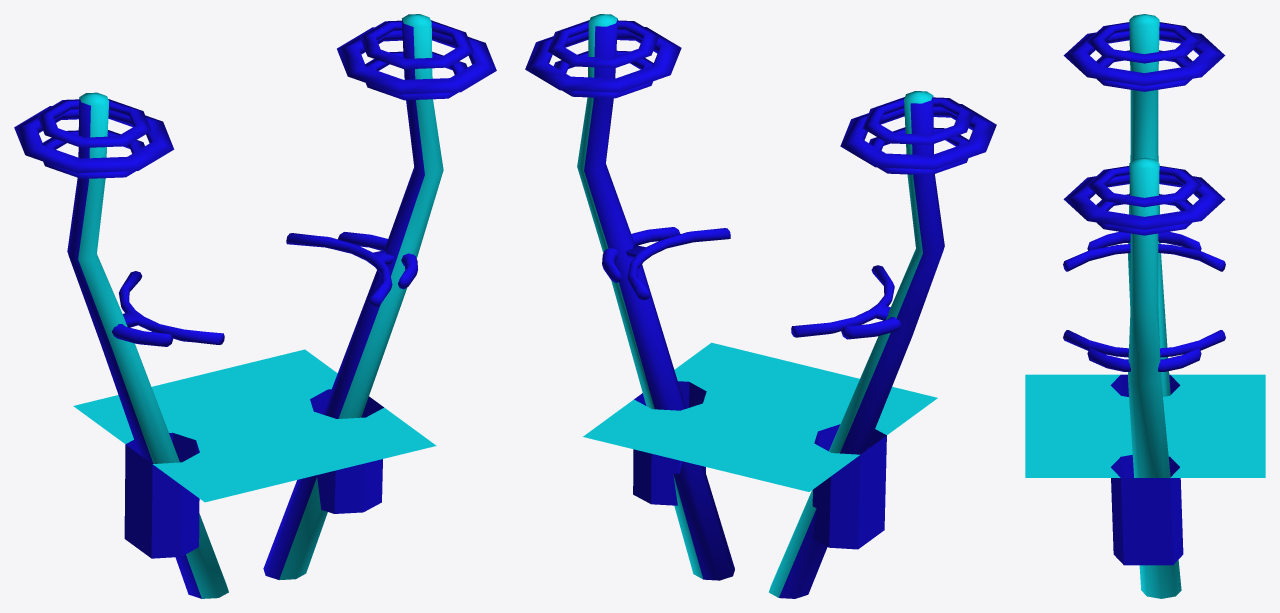
Rendered from Electric_1T_Floor.fbx.
3 renders of one model, left to right at view 1: azimuth 30°, elevation 25°; view 2: azimuth 150°, elevation 25°; view 3: azimuth 270°, elevation 25°, orthographic. The views are drawn at different scales.
Visible parts, largest first — view 1: Electric_1T_Floor; view 2: Electric_1T_Floor; view 3: Electric_1T_Floor.
Part boxes in pixels (x1,y1,x2,y2): Electric_1T_Floor: [14, 14, 496, 598]; Electric_1T_Floor: [525, 14, 996, 598]; Electric_1T_Floor: [1025, 14, 1265, 598].
Bounding box in the file's own units: 1.92 × 0.9524 × 2.12.
